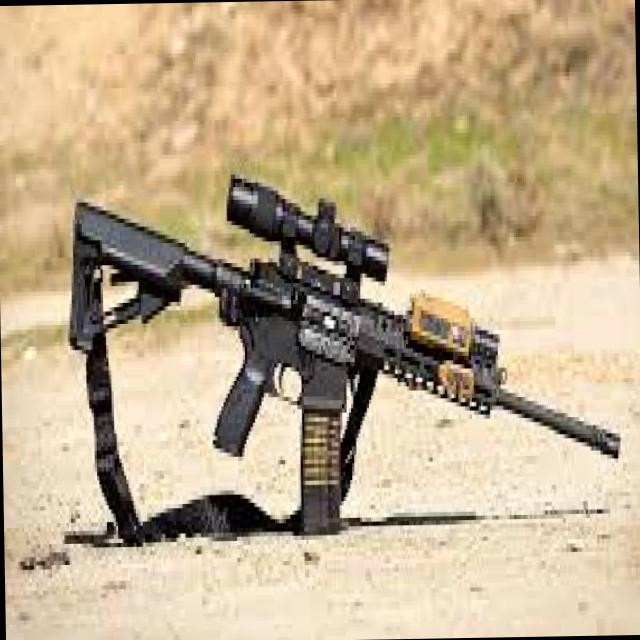Gun: (54, 150, 530, 569)
